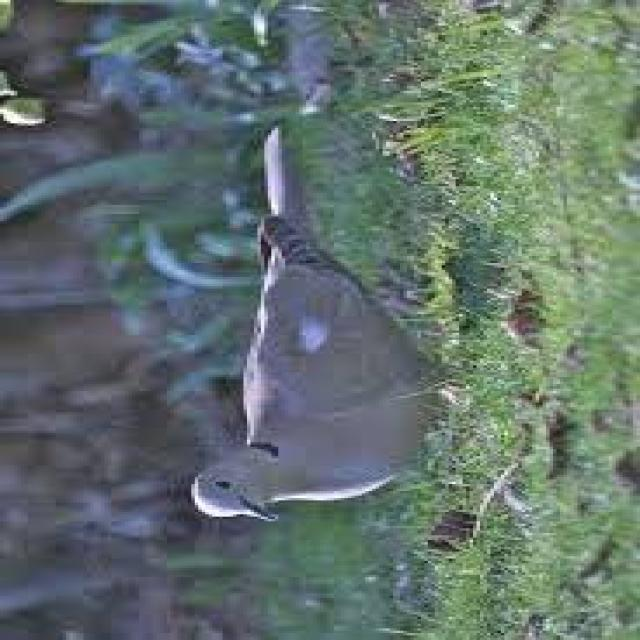pigeon: (114, 110, 496, 551)
